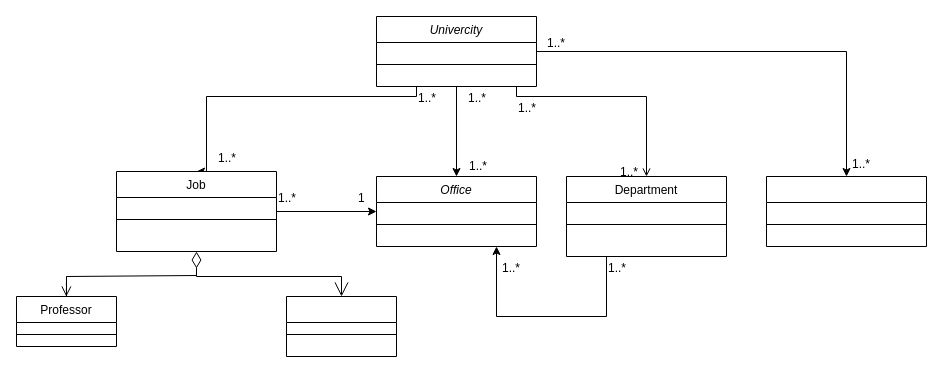
This 943x373 diagram has some shape labels left out. The shapes that lost their labels are listed below. From the top down, each one's centre as x and y in pixels, then its label:
At (846,211): "Class".
At (341,326): "Officer".
